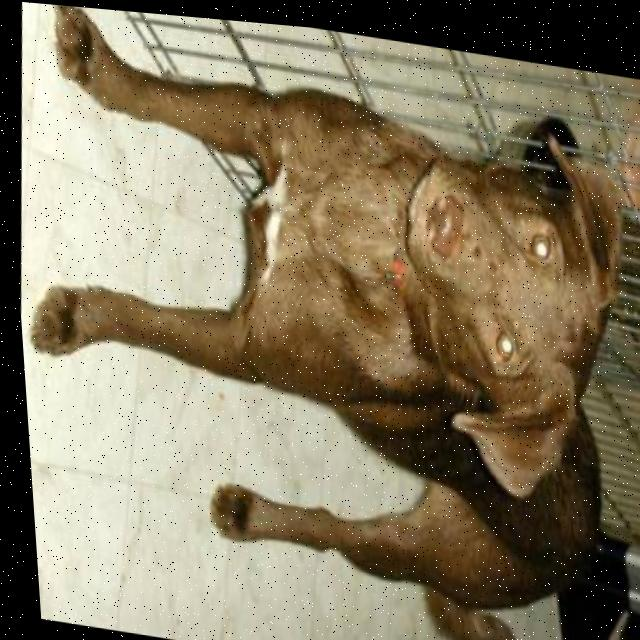dogs: (1, 20, 640, 640)
